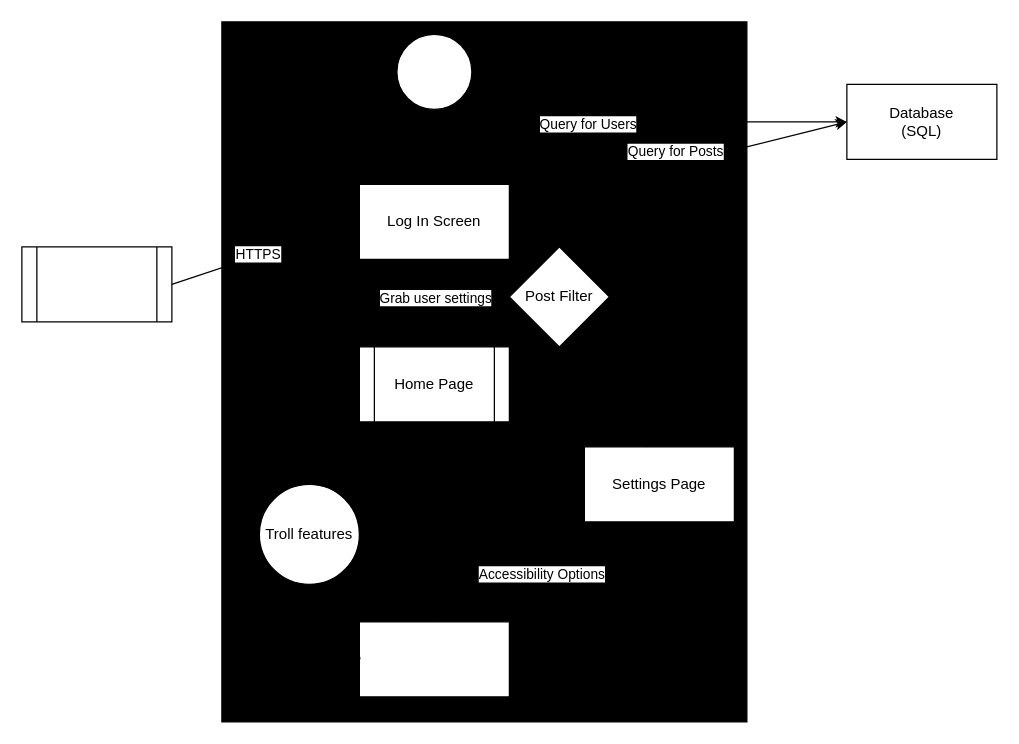
The diagram is 1019 pixels wide and 744 high, and some of its shapes have lost their labels. The shapes that lost their labels are listed below. From the top down, each one's centre as x and y in pixels, then its label:
[434,71]: captcha
[96,284]: Flask Server
[433,659]: Front End (probably not just html)
